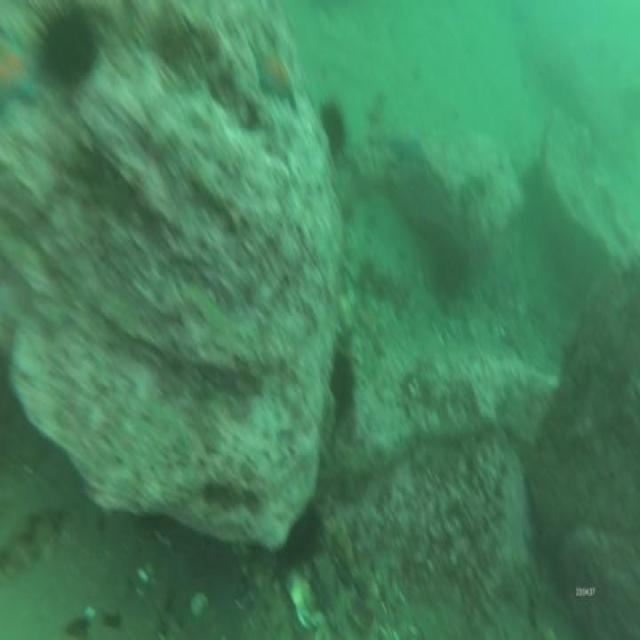echinus: (38, 13, 100, 87), (284, 504, 324, 563), (330, 354, 354, 409), (321, 101, 345, 152)
starfish: (252, 41, 298, 103), (0, 32, 33, 114)
